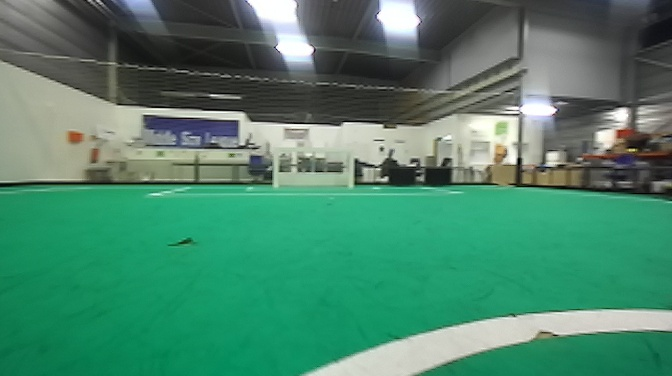goalpost: (341, 140, 359, 189), (268, 143, 279, 186)
